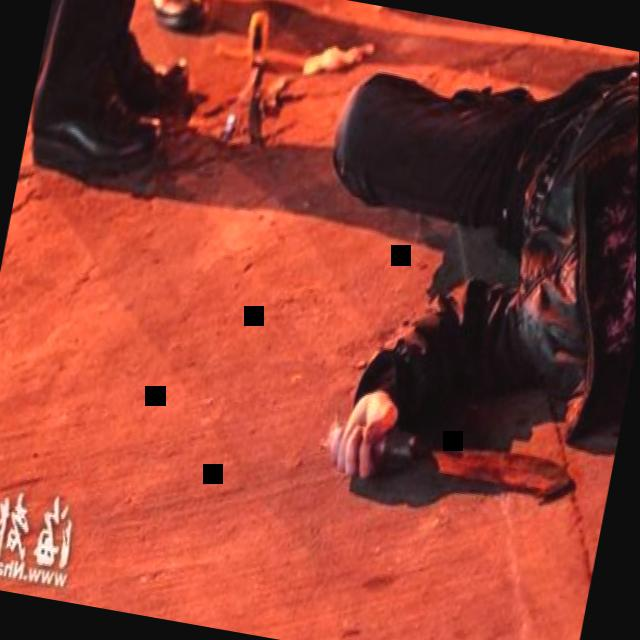Fall-Detected: (255, 0, 640, 552)
